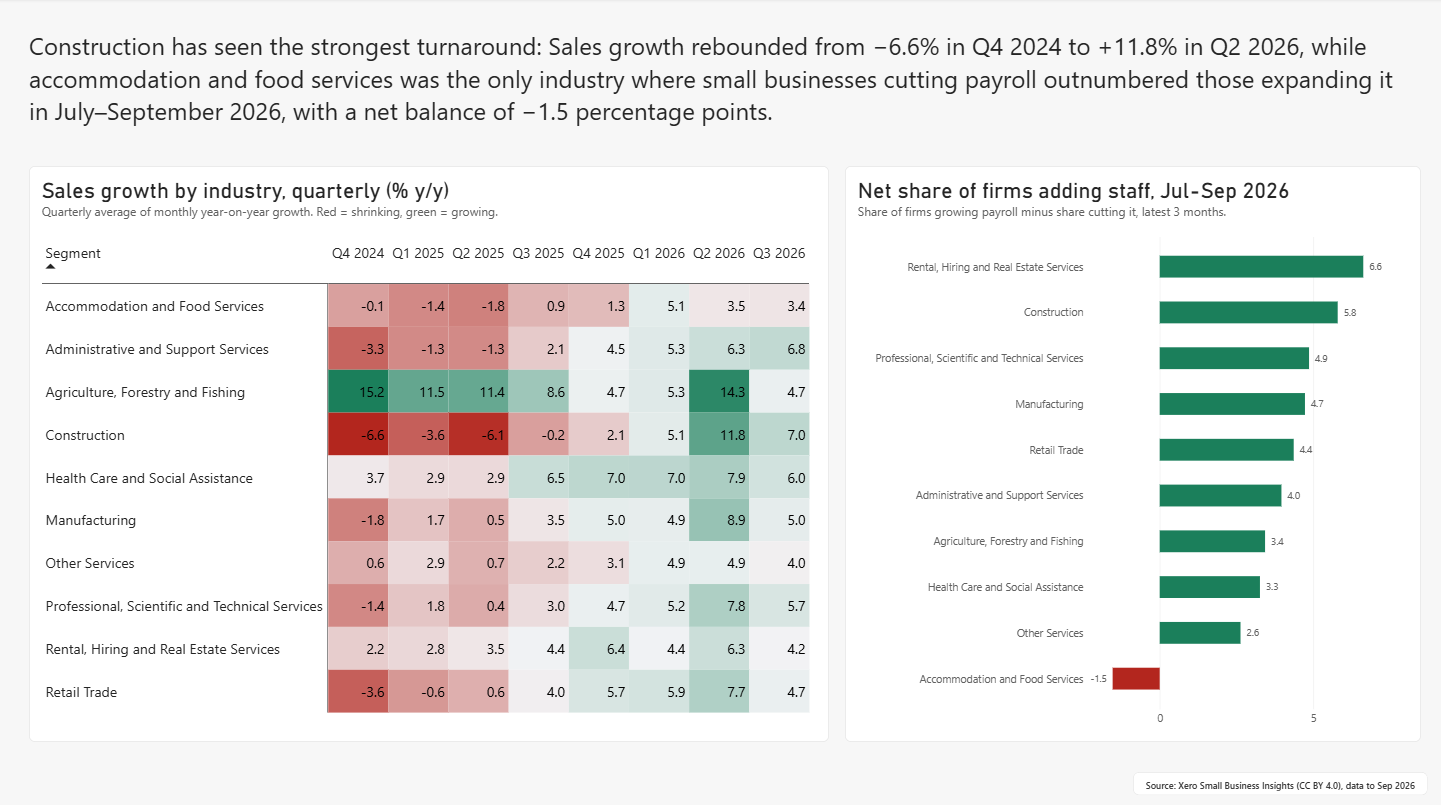

Layout of this report page (visuals, bound fields, positions):
{"tool":"powerbi","page":{"name":"Industries","canvas":[1920,1080],"ordinal":2},"visuals":[{"type":"textbox","box":[41.2,41.2,1839.5,138.3],"z":0},{"type":"cardVisual","fields":{"Data":["_Measures.Source Note"]},"box":[1509.6,1029.5,392.4,31.9],"z":1000},{"type":"pivotTable","title":"Sales growth by industry, quarterly (% y/y)","fields":{"Columns":["DimDate.QuarterLabel"],"Rows":["DimSegment.Segment"],"Values":["_Measures.Value"]},"box":[41.2,223.4,1064,766.1],"z":2000},{"type":"clusteredBarChart","title":"Net share of firms adding staff, Jul-Sep 2026","fields":{"Category":["DimSegment.Segment"],"Y":["_Measures.Net Job Creators"]},"box":[1126.6,223.4,766.1,766.1],"z":3000}]}

Visuals, with their boxes in screenshot pixels (x1, y1, x2, y2), scaled from the page's 1920x1080 canvas onto the 1441x805 screenshot:
textbox: crop(31, 31, 1412, 134)
cardVisual - _Measures.Source Note: crop(1133, 767, 1427, 791)
"Sales growth by industry, quarterly (% y/y)" pivotTable: crop(31, 167, 829, 738)
"Net share of firms adding staff, Jul-Sep 2026" clusteredBarChart: crop(846, 167, 1421, 738)
